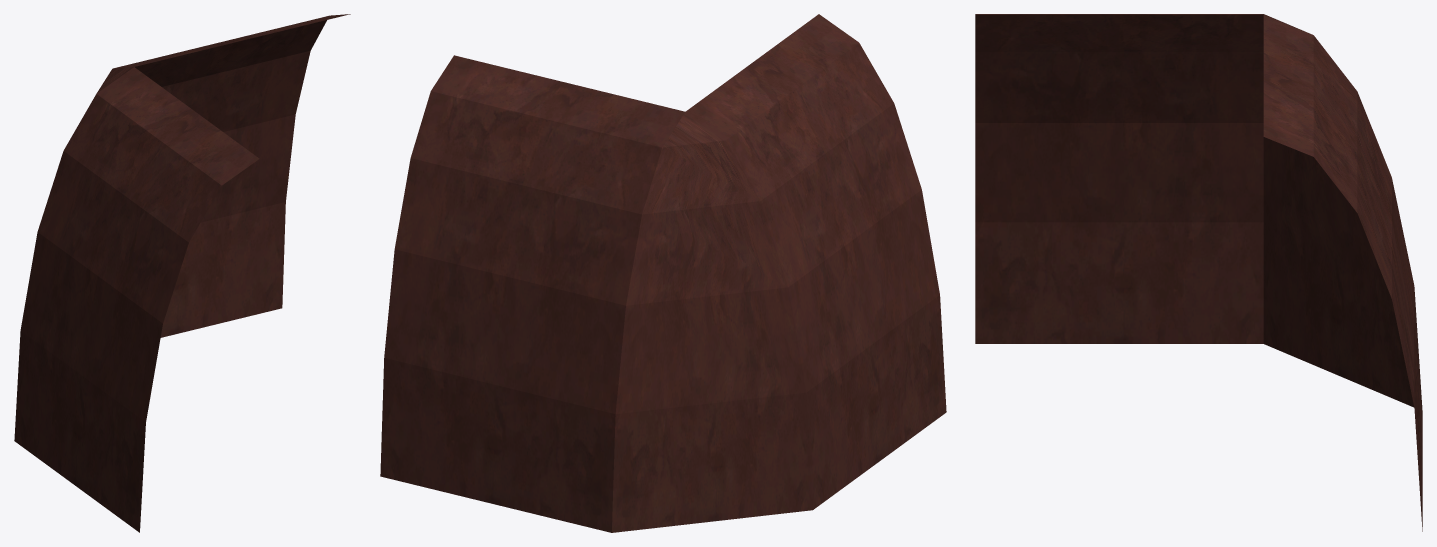
Rendered from lava_base_concave_01.fbx.
3 views of the same model, side by side, from view 1: azimuth 30°, elevation 25°; view 2: azimuth 150°, elevation 25°; view 3: azimuth 270°, elevation 25° (orthographic). The views are drawn at different scales.
Visible parts, largest first — view 1: obj0.137; view 2: obj0.137; view 3: obj0.137.
Boxes of the visible parts, bbox=[...] form: obj0.137: bbox=[14, 14, 350, 532]; obj0.137: bbox=[380, 14, 946, 532]; obj0.137: bbox=[975, 14, 1422, 531].
Size of the model in its own units: 5.63 by 5.5 by 5.63.
